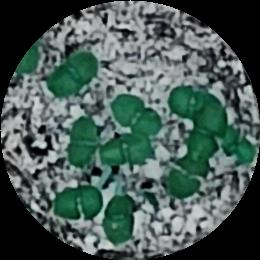Basil: (49, 53, 99, 95), (170, 151, 209, 203), (112, 91, 157, 135), (53, 185, 108, 217), (195, 103, 225, 155), (67, 116, 97, 167), (173, 86, 217, 120), (106, 194, 134, 246), (103, 133, 149, 162), (222, 129, 253, 162)
